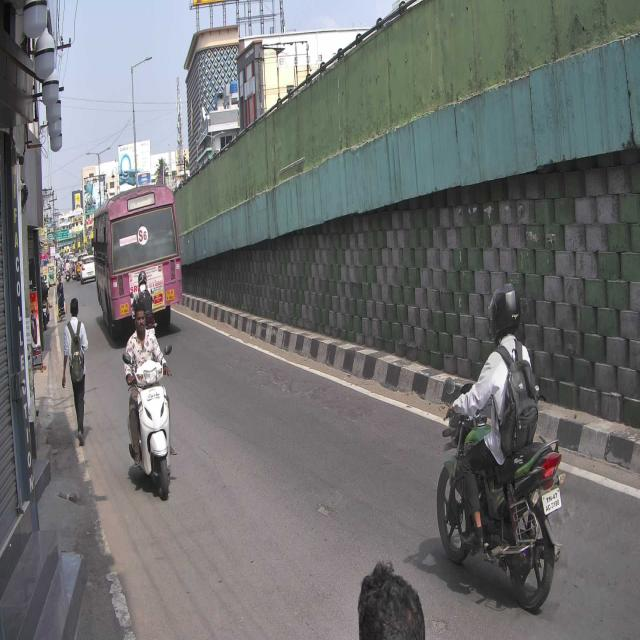single_rider: (435, 282, 563, 606), (122, 302, 176, 505)
